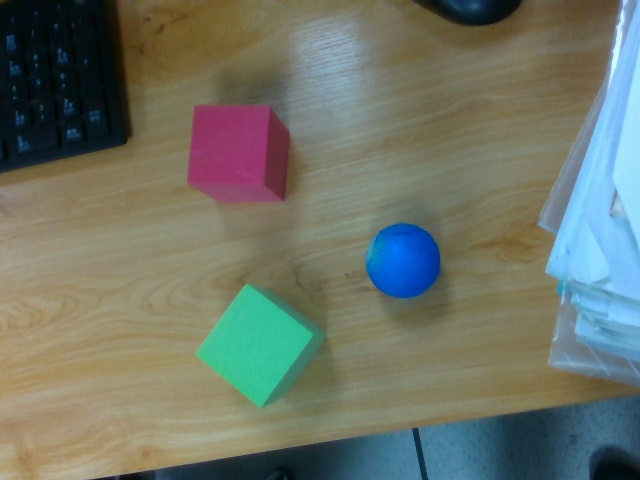blueball: (366, 219, 441, 299)
green: (192, 279, 327, 408)
red: (187, 102, 290, 207)
